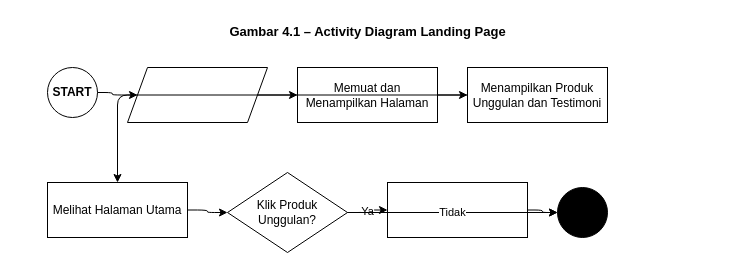
Image size: 734x270. Some labels were removed from this diagram. The centre of each missing label's shape, as x and y in pixels:
"END" belongs at [582,212].
"Ke Halaman Detail Produk" belongs at [457,210].
"Mengakses Website" belongs at [197,94].
